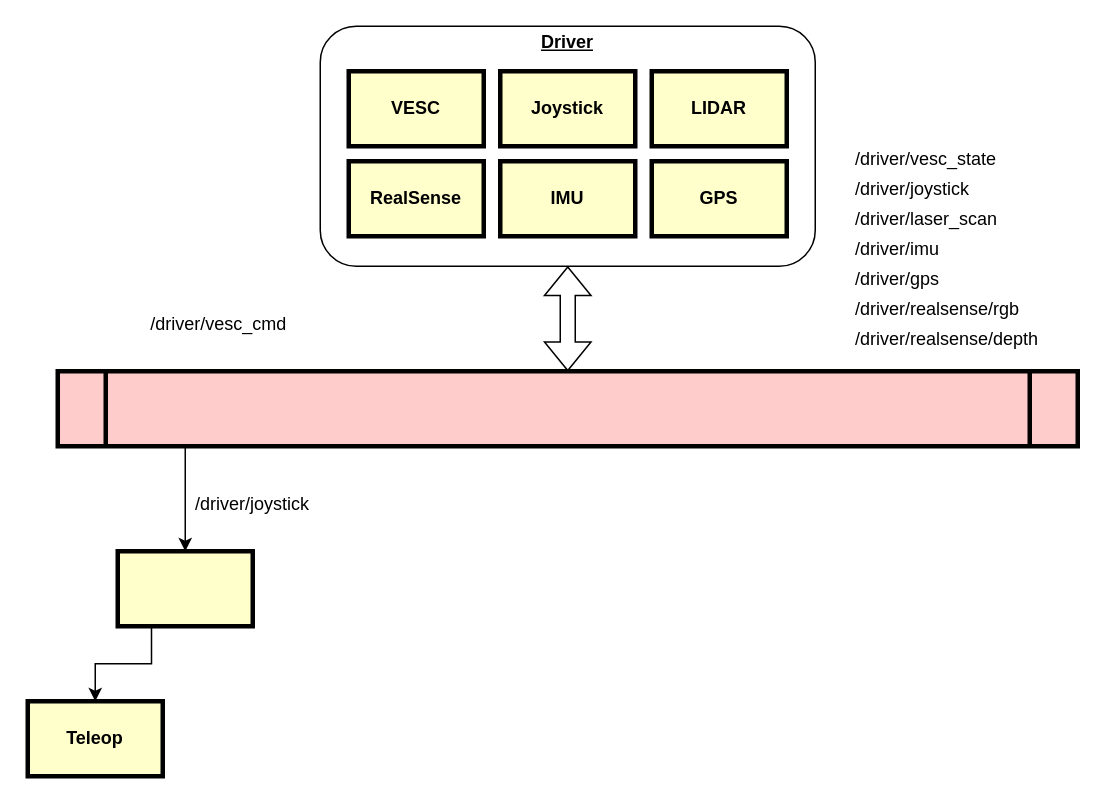
This 1106x804 diagram has some shape labels left out. Here are the shapes that lost their labels. From the top down, the box of each, then its label:
(55, 368, 1079, 448): DDS Domain
(115, 548, 254, 628): Coordinator
